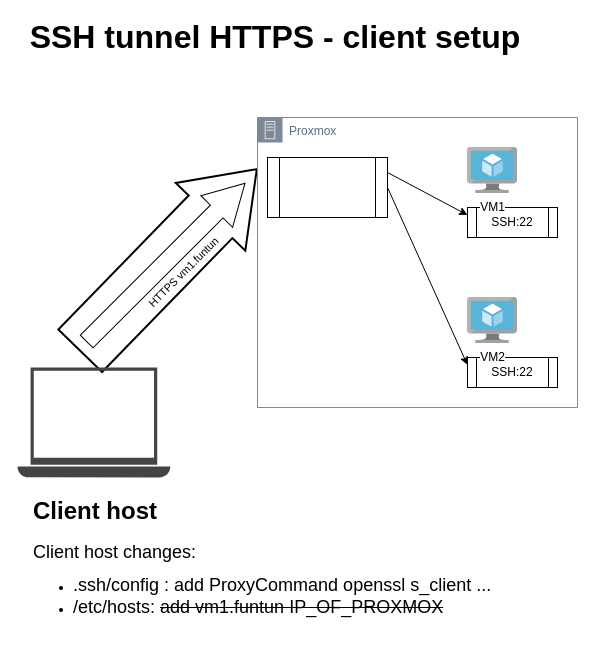
Image size: 597x646. Some labels were removed from this diagram. The box of each missing label's shape, as (x1, y1, x2, y2) in pixels:
NGINX HTTPS:443: (266, 156, 388, 218)
ssh handshake: (70, 166, 261, 358)
ssh vm1.funtun: (17, 367, 170, 477)
